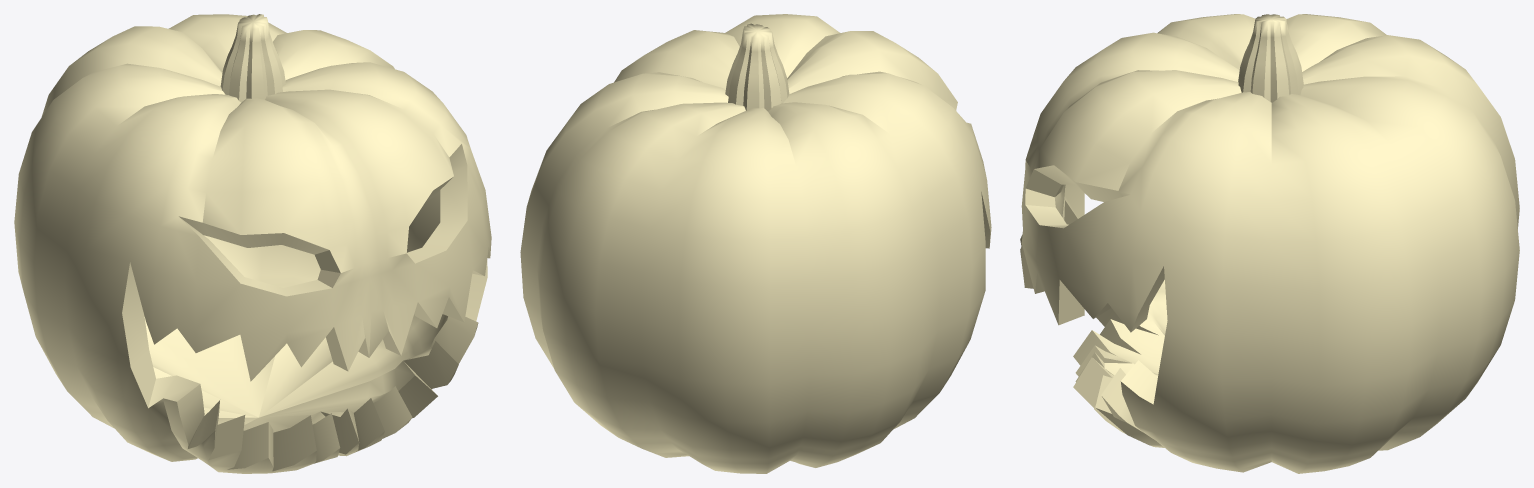
Rendered from Pumpkin_Enemy.fbx.
The picture shows the model from 3 angles, left to right: view 1: azimuth 30°, elevation 25°; view 2: azimuth 150°, elevation 25°; view 3: azimuth 270°, elevation 25°; orthographic projection. The views are drawn at different scales.
Parts seen in each view (by area): view 1: scary pumpkin; view 2: scary pumpkin; view 3: scary pumpkin.
Boxes of the visible parts, x1,y1,x2,y2 form: scary pumpkin: (14,14,491,473); scary pumpkin: (520,14,991,473); scary pumpkin: (1020,14,1519,473).
Size of the model in its own units: 73.92 by 73.74 by 80.1.
